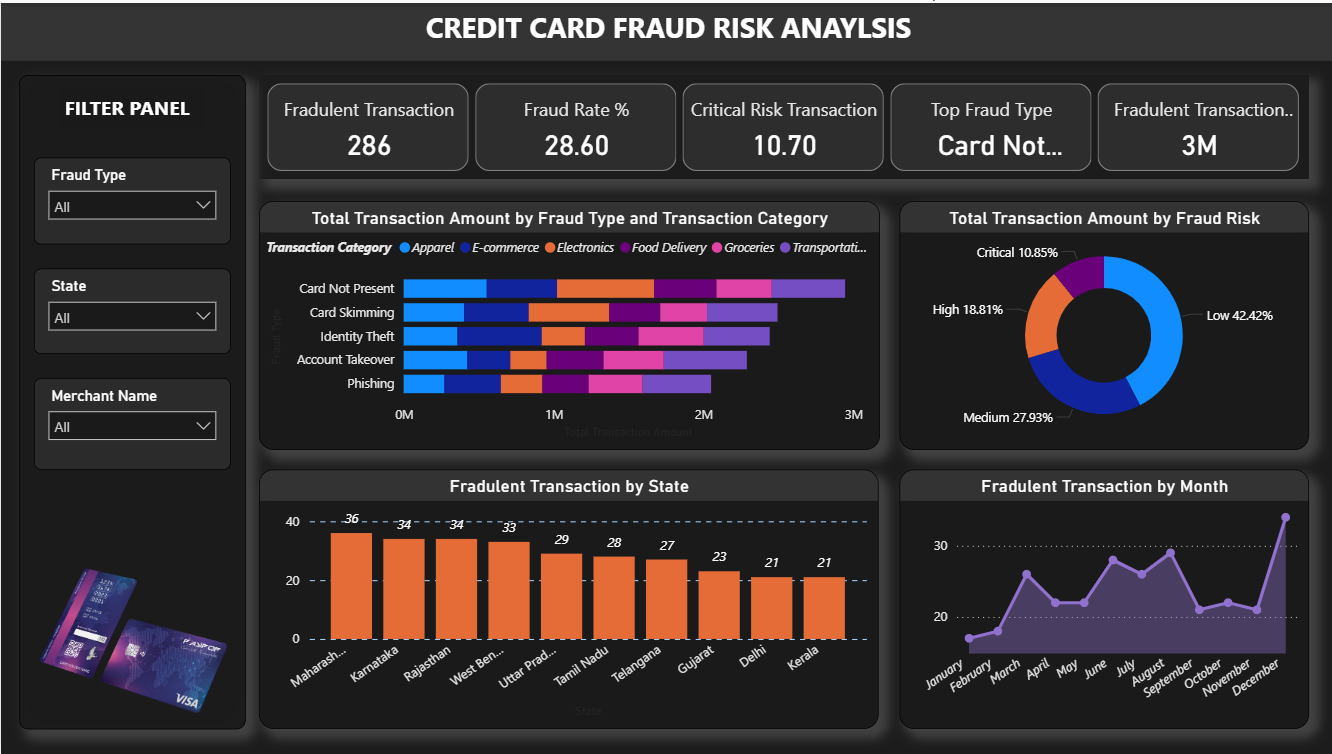

What the dashboard file says about the page in this screenshot:
{"tool":"powerbi","page":{"name":"Page 1","canvas":[1280,720],"ordinal":0},"visuals":[{"type":"textbox","box":[0,0,1280,55],"z":0},{"type":"shape","box":[17.3,69,217.2,627],"z":1000},{"type":"textbox","box":[56.7,81.7,140,38.3],"z":2000},{"type":"barChart","fields":{"Category":["Credit Card Fraud Risk Analysis.Fraud Type"],"Y":["Credit Card Fraud Risk Analysis.Total Transaction Amount"],"Series":["Credit Card Fraud Risk Analysis.Transaction Category"]},"box":[246.7,190,595,238.3],"z":3000},{"type":"donutChart","fields":{"Category":["Credit Card Fraud Risk Analysis.Fraud Risk"],"Y":["Credit Card Fraud Risk Analysis.Total Transaction Amount"]},"box":[861.4,189.8,392.6,238.7],"z":4000},{"type":"columnChart","fields":{"Category":["Credit Card Fraud Risk Analysis.State"],"Y":["Credit Card Fraud Risk Analysis.Fradulent Transaction"]},"box":[247.4,447.3,593.9,248.8],"z":5000},{"type":"lineChart","fields":{"Category":["Credit Card Fraud Risk Analysis.Transaction Date.Variation.Date Hierarchy.Month"],"Y":["Credit Card Fraud Risk Analysis.Fradulent Transaction"]},"box":[861.4,447.3,392.6,248.8],"z":6000},{"type":"slicer","fields":{"Values":["Credit Card Fraud Risk Analysis.Fraud Type"]},"box":[31.6,148.1,188.4,83.4],"z":7000},{"type":"slicer","fields":{"Values":["Credit Card Fraud Risk Analysis.State"]},"box":[31.6,254.5,188.4,82],"z":8000},{"type":"slicer","fields":{"Values":["Credit Card Fraud Risk Analysis.Merchant Name"]},"box":[31.6,359.5,188.4,87.7],"z":9000},{"type":"cardVisual","fields":{"Data":["Credit Card Fraud Risk Analysis.Fradulent Transaction","Credit Card Fraud Risk Analysis.Fraud Rate %","Credit Card Fraud Risk Analysis.Critical Risk Transaction","Credit Card Fraud Risk Analysis.Top Fraud Type","Credit Card Fraud Risk Analysis.Fradulent Transaction Amount"]},"box":[246.7,68.3,1006.7,100],"z":10000},{"type":"image","box":[15.1,505.7,219.6,213.5],"z":10001}]}

Visuals, with their boxes in screenshot pixels (x1, y1, x2, y2), scaled from the page's 1280x720 canvas onto the 1332x754 screenshot:
textbox: box=[0, 0, 1331, 58]
shape: box=[18, 72, 244, 729]
textbox: box=[59, 86, 205, 126]
barChart - Credit Card Fraud Risk Analysis.Fraud Type x Credit Card Fraud Risk Analysis.Total Transaction Amount: box=[257, 199, 876, 449]
donutChart - Credit Card Fraud Risk Analysis.Fraud Risk x Credit Card Fraud Risk Analysis.Total Transaction Amount: box=[896, 199, 1305, 449]
columnChart - Credit Card Fraud Risk Analysis.State x Credit Card Fraud Risk Analysis.Fradulent Transaction: box=[257, 468, 875, 729]
lineChart - Credit Card Fraud Risk Analysis.Transaction Date.Variation.Date Hierarchy.Month x Credit Card Fraud Risk Analysis.Fradulent Transaction: box=[896, 468, 1305, 729]
slicer - Credit Card Fraud Risk Analysis.Fraud Type: box=[33, 155, 229, 242]
slicer - Credit Card Fraud Risk Analysis.State: box=[33, 267, 229, 352]
slicer - Credit Card Fraud Risk Analysis.Merchant Name: box=[33, 376, 229, 468]
cardVisual - Credit Card Fraud Risk Analysis.Fradulent Transaction x Credit Card Fraud Risk Analysis.Fraud Rate %: box=[257, 72, 1304, 176]
image: box=[16, 530, 244, 753]
